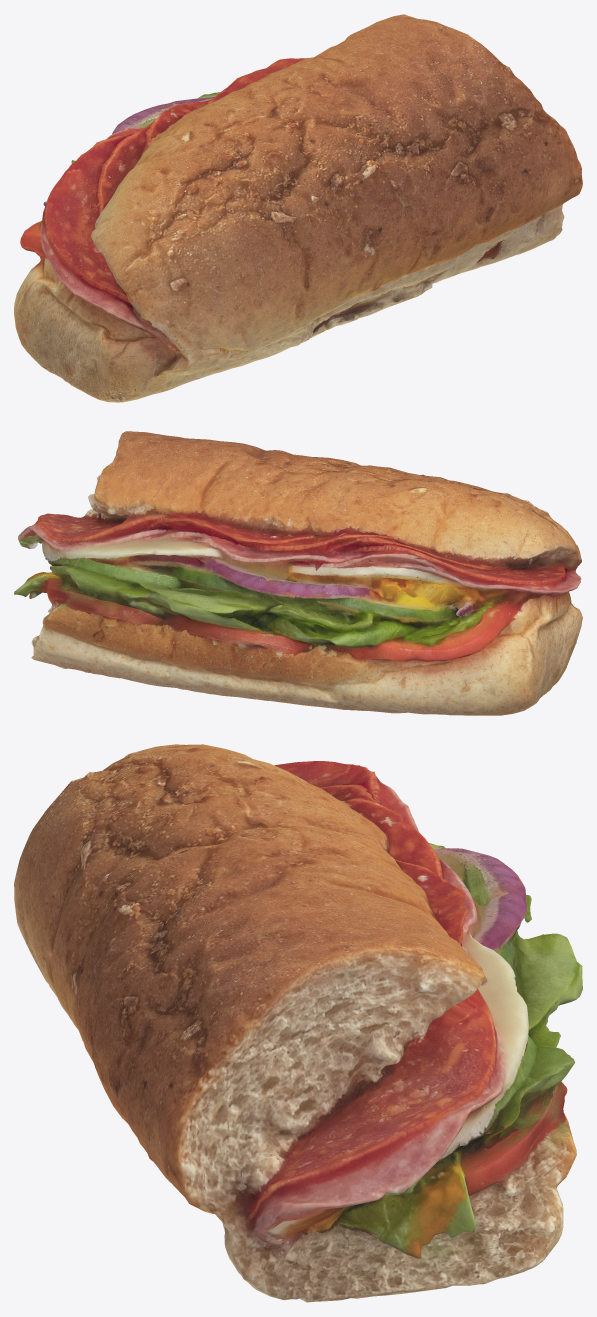
Rendered from Subway Peperoni.glb.
The picture shows the model from 3 angles, top to bottom: view 1: azimuth 30°, elevation 25°; view 2: azimuth 150°, elevation 25°; view 3: azimuth 270°, elevation 25°; orthographic projection. The views are drawn at different scales.
Visible parts, largest first — view 1: Subway Peperoni; view 2: Subway Peperoni; view 3: Subway Peperoni.
Boxes of the visible parts, x1,y1,x2,y2 form: Subway Peperoni: (14, 14, 582, 402); Subway Peperoni: (14, 431, 582, 715); Subway Peperoni: (14, 744, 582, 1302).
Size of the model in its own units: 0.1601 by 0.0631 by 0.1019.
1 material, 1 textured.
